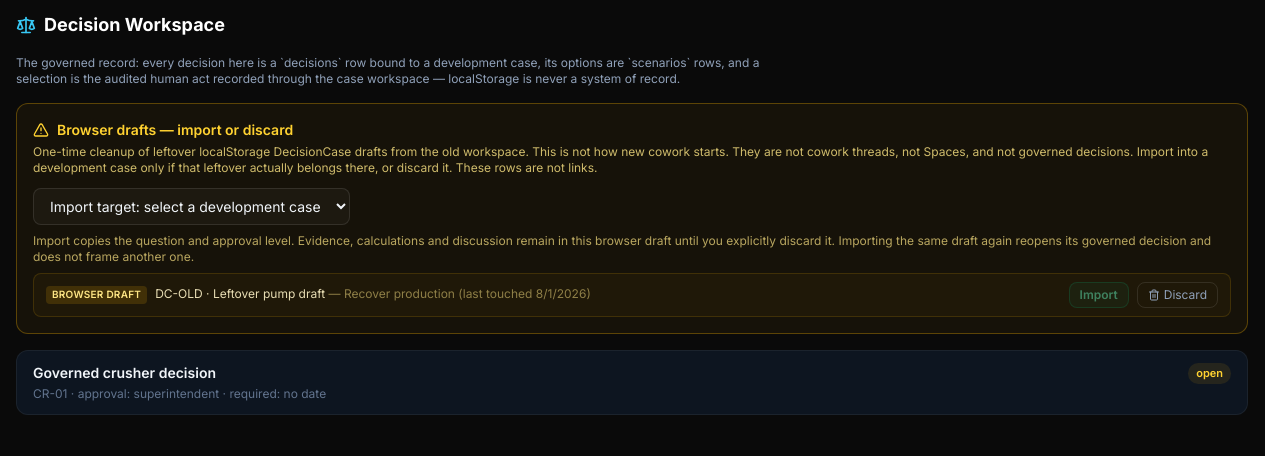
Test case: GovernedDecisionWorkspacePage drafts › retries a lost acknowledgement with the same import identity
Later steps or results of the test are not shown.
Select "Synthetic development case" in the dropdown named "Import target development case" at (192, 206), box [33,188,350,225]
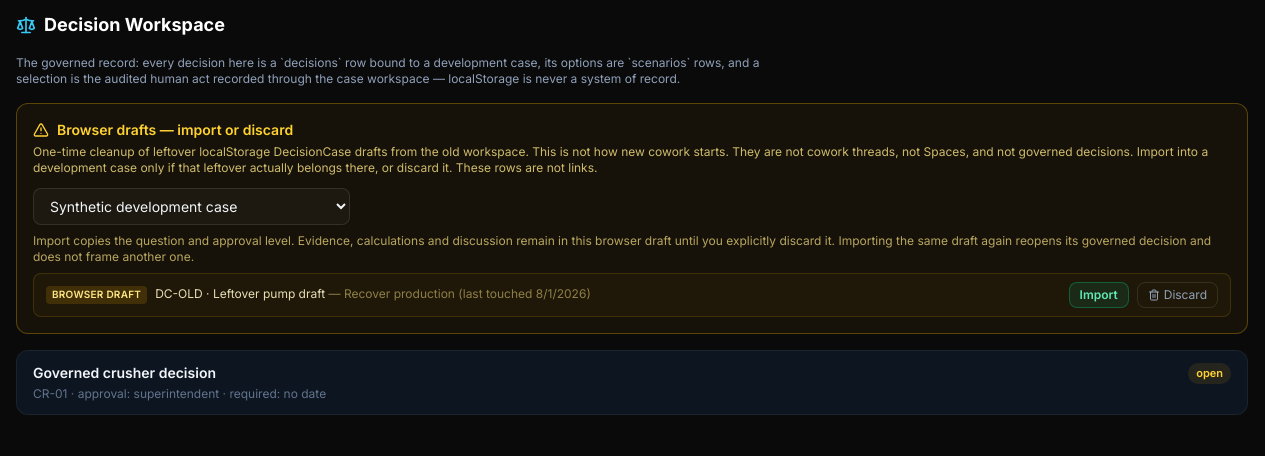
Click the button "Import".
click(1099, 295)  # box [1069,282,1129,308]
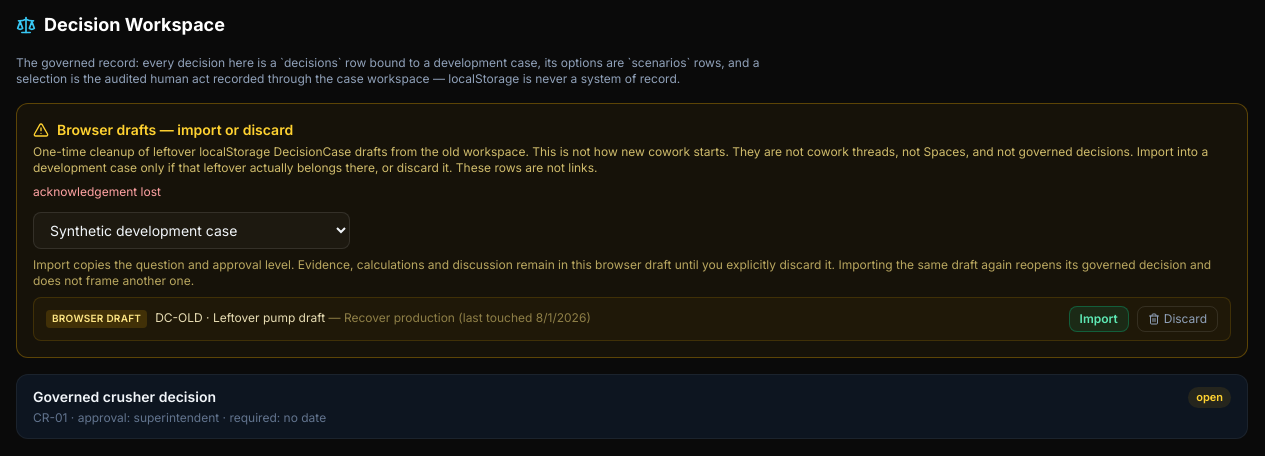
Now the text "acknowledgement lost" is shown, box [33,184,161,199]
